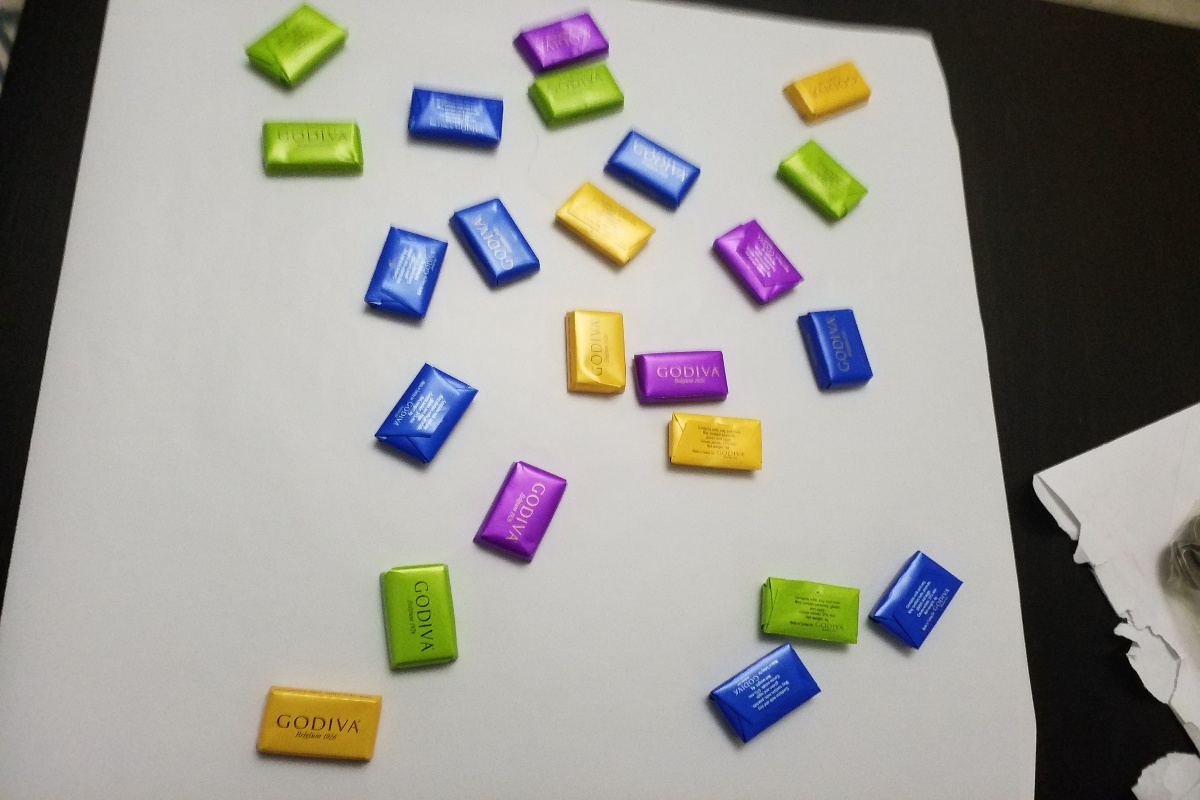chocolate_blue: (691, 639, 831, 753), (859, 542, 971, 664), (365, 360, 484, 468), (355, 219, 455, 331), (445, 192, 544, 303), (400, 76, 515, 156), (791, 302, 875, 403)
chocolate_green: (367, 560, 471, 679), (773, 137, 870, 235), (748, 573, 866, 650), (254, 113, 373, 179)
chocolate_purple: (464, 455, 572, 571), (629, 341, 735, 411)
chocolate_yellow: (247, 680, 388, 770), (548, 183, 659, 278), (659, 407, 773, 484), (777, 55, 879, 130), (556, 303, 631, 402)
